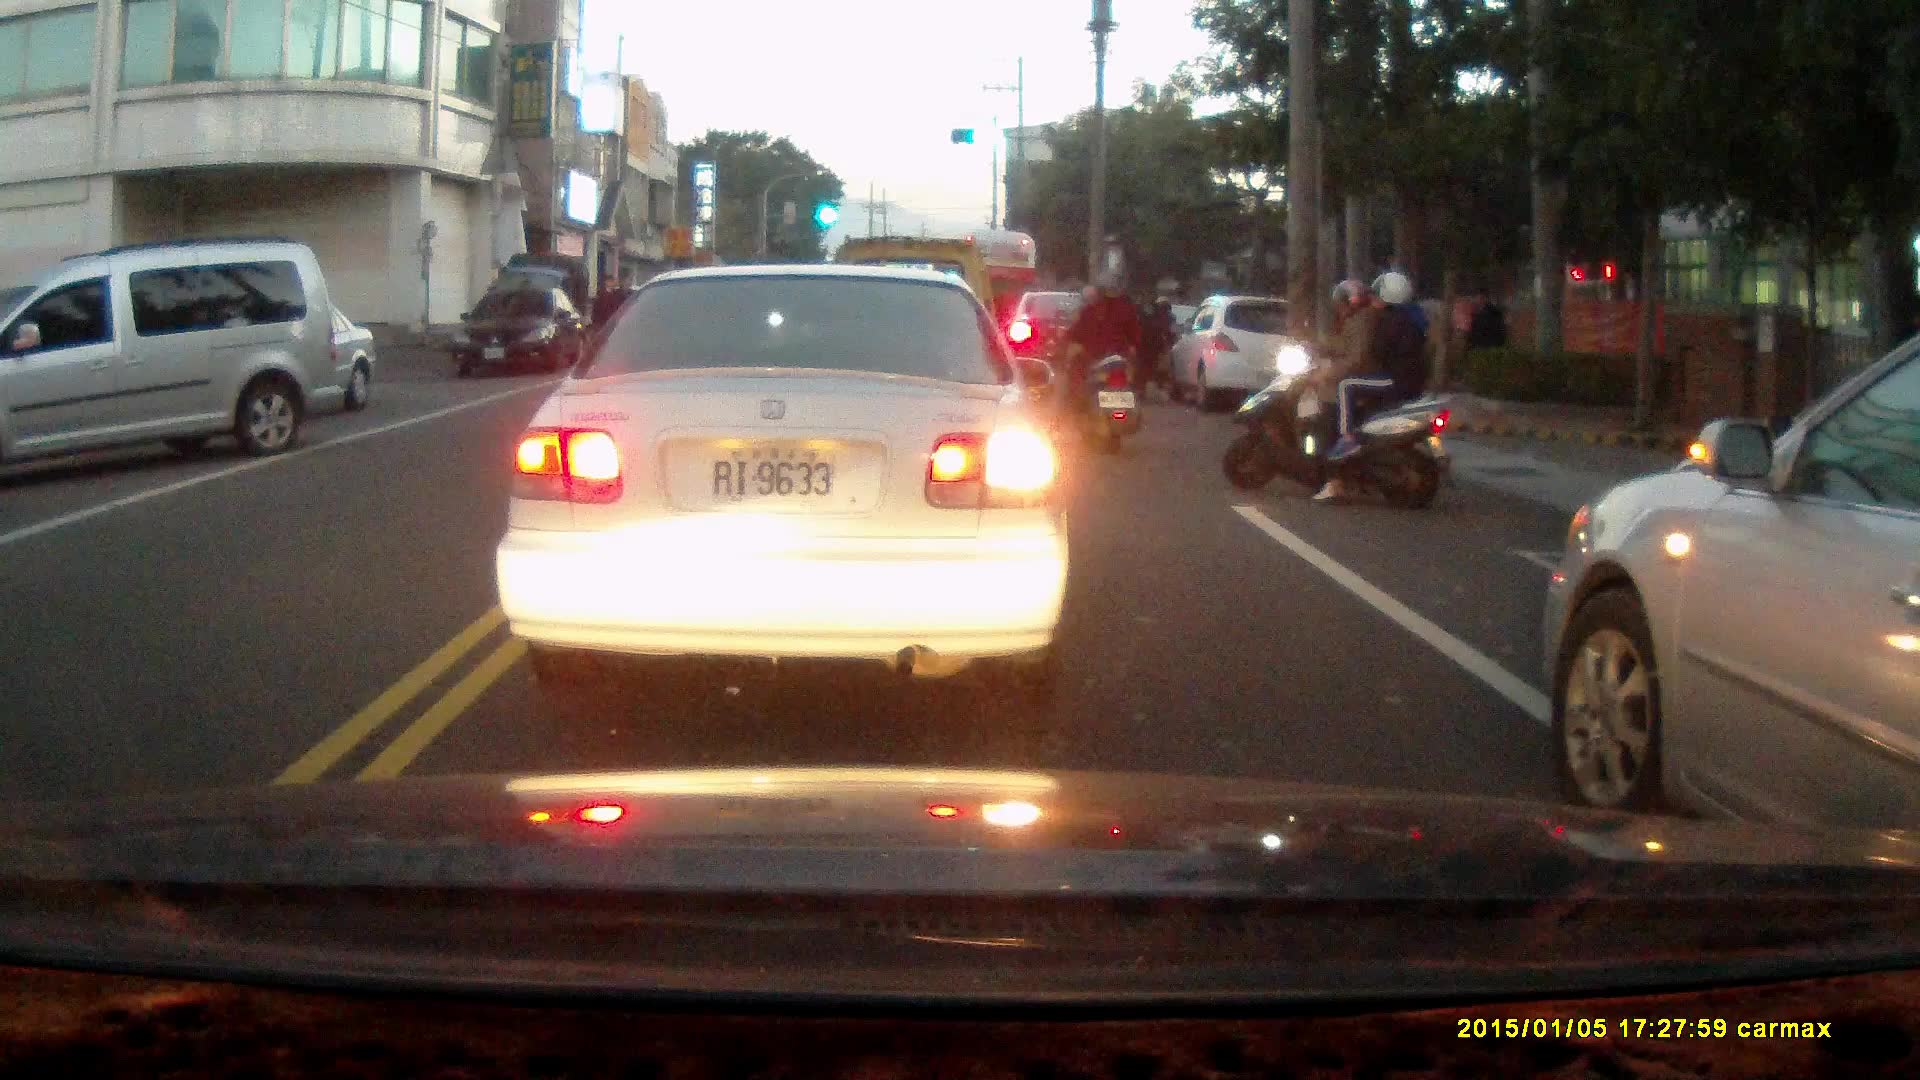pedestrian: (1461, 279, 1505, 377), (589, 274, 623, 359)
rider: (1215, 271, 1449, 513), (1050, 267, 1140, 454), (1142, 295, 1176, 385)
vehicle: (514, 263, 1063, 664), (1542, 319, 1918, 852), (1, 243, 356, 481), (1162, 294, 1330, 409), (1002, 287, 1139, 398), (458, 284, 586, 379)
